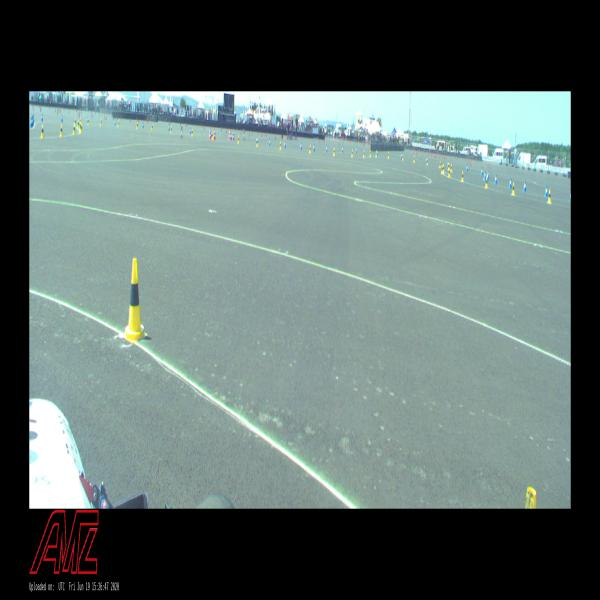blue_cone: (544, 186, 548, 197), (523, 181, 526, 192), (509, 177, 511, 188), (569, 191, 571, 202), (495, 174, 497, 184), (32, 116, 34, 126), (33, 114, 35, 123), (41, 113, 43, 122), (313, 143, 315, 152), (481, 168, 483, 176), (484, 172, 486, 180), (190, 127, 192, 135), (284, 141, 286, 149), (300, 142, 302, 150), (326, 145, 328, 153), (400, 152, 402, 160), (425, 156, 427, 164), (466, 164, 468, 172), (487, 173, 489, 180), (61, 115, 63, 122), (168, 124, 170, 131), (142, 122, 144, 128), (355, 148, 357, 154), (376, 150, 378, 156), (31, 118, 32, 127), (342, 146, 343, 154), (447, 160, 448, 168), (211, 130, 212, 137), (231, 134, 232, 140), (256, 138, 257, 144), (269, 140, 270, 146), (88, 117, 88, 123)
large_orange_cone: (229, 128, 231, 140), (210, 127, 211, 139), (214, 128, 215, 140), (233, 128, 234, 140)
yellow_cone: (124, 258, 148, 342), (548, 189, 551, 204), (41, 124, 44, 138), (512, 183, 515, 195), (485, 177, 488, 188), (60, 126, 63, 136), (448, 167, 450, 178), (462, 171, 464, 181), (73, 124, 75, 134), (441, 165, 443, 174), (256, 138, 258, 147), (309, 144, 311, 152), (333, 148, 335, 156), (450, 164, 452, 172), (351, 150, 353, 158), (100, 118, 102, 126), (136, 122, 138, 130), (363, 150, 365, 158), (439, 160, 441, 168), (448, 163, 450, 171), (118, 120, 120, 127), (375, 150, 377, 157), (426, 158, 428, 165), (402, 154, 404, 160), (413, 156, 415, 162), (443, 164, 444, 174), (81, 124, 82, 133), (75, 118, 76, 127), (280, 141, 281, 150), (238, 136, 239, 144), (78, 120, 79, 128), (88, 118, 89, 126), (171, 126, 172, 134), (192, 129, 193, 137), (212, 132, 213, 140), (115, 119, 116, 126), (152, 124, 153, 131), (370, 150, 371, 157), (388, 152, 389, 158)
